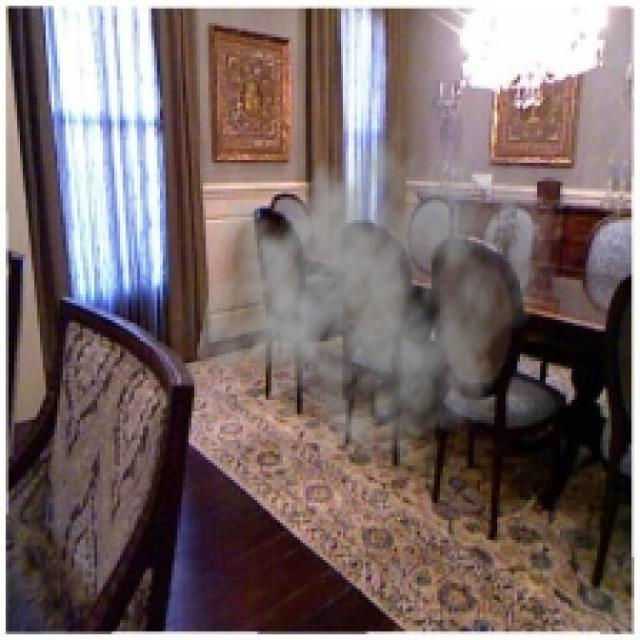smoke: (191, 100, 563, 471)
